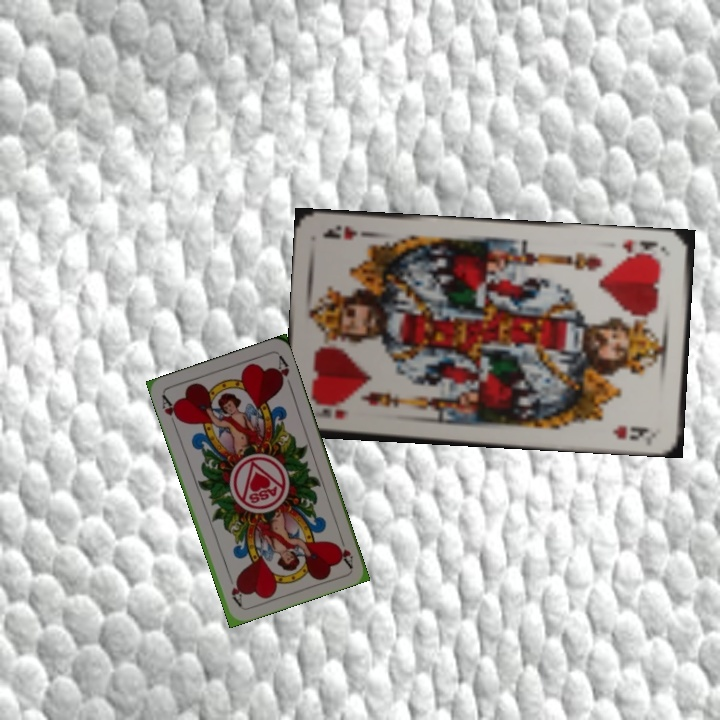HA: (158, 391, 183, 430), (332, 530, 356, 570)
HK: (618, 235, 668, 262), (311, 404, 350, 422)
